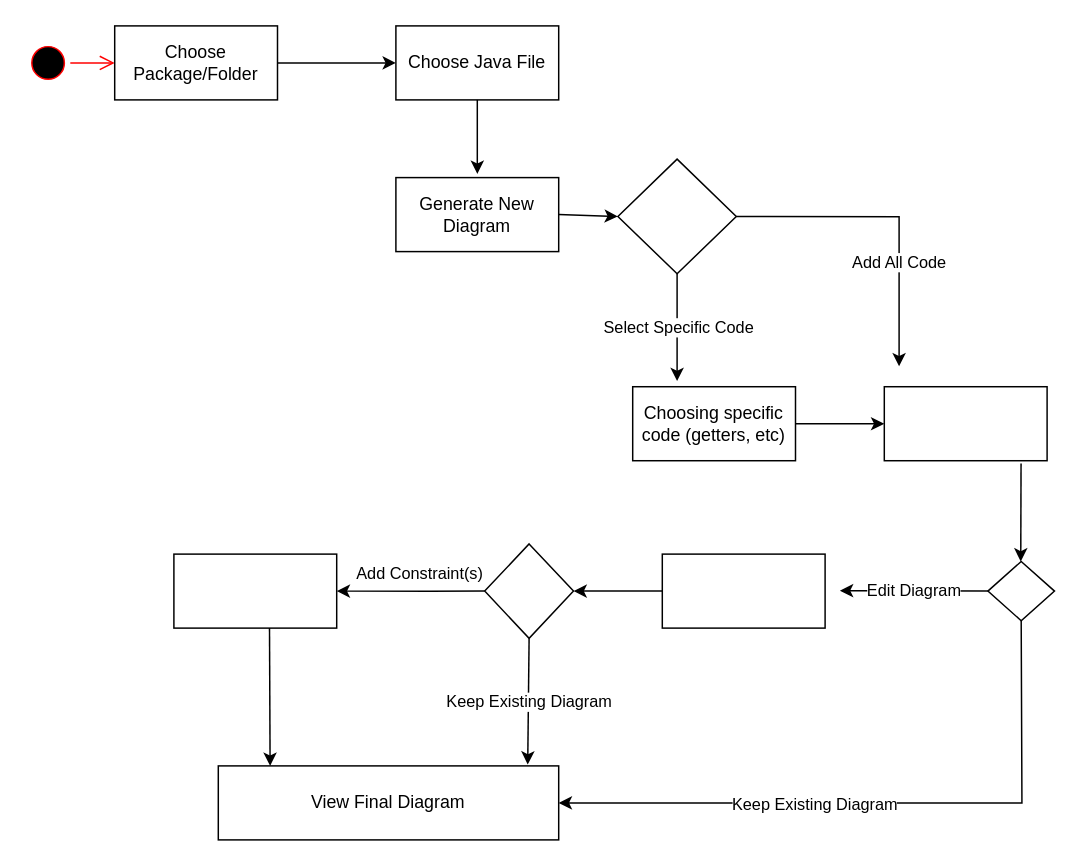
This 1080x866 diagram has some shape labels left out. The centre of each missing label's shape, as x and y in pixels:
"Choose Constraint(s)" belongs at [254,590].
"Edit Generated Diagram" belongs at [743,590].
"View Generated Diagram" belongs at [965,423].
